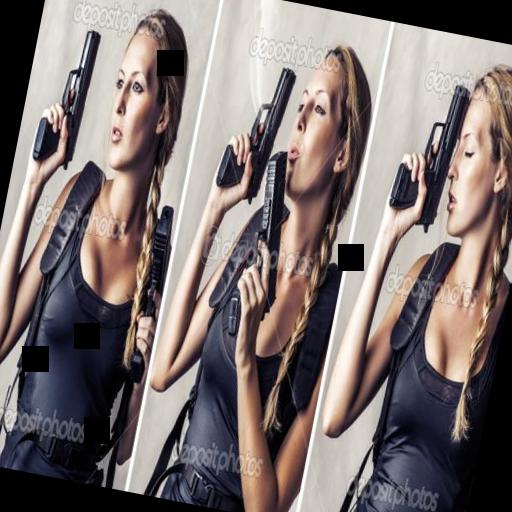Handgun: (214, 137, 314, 345), (16, 8, 109, 188), (204, 48, 305, 204), (382, 79, 468, 231), (126, 180, 187, 353)
